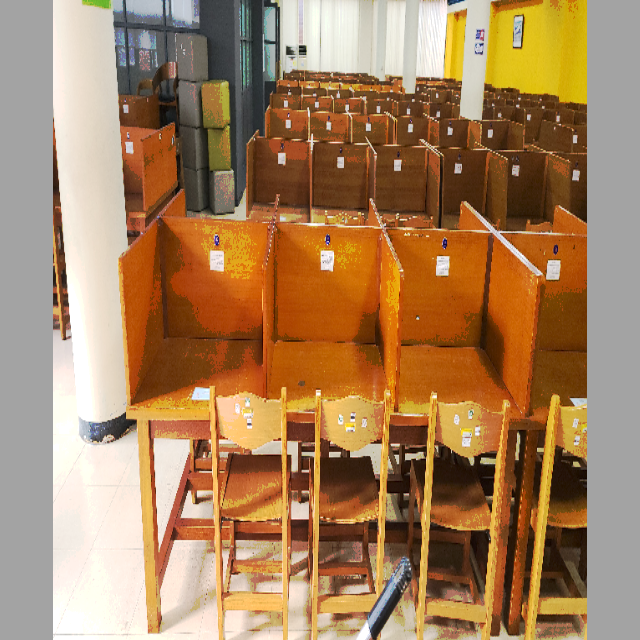empty: (126, 202, 270, 522), (401, 201, 524, 522), (275, 212, 393, 512)
